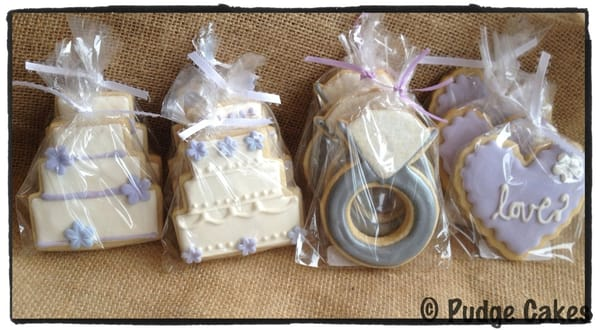sushi: (449, 113, 585, 260)
